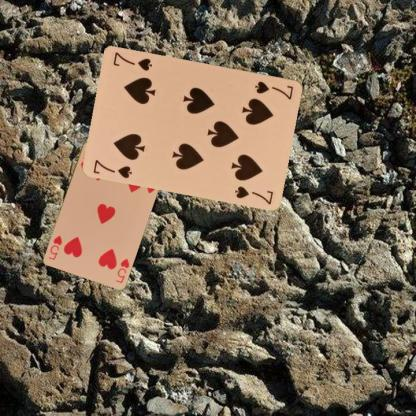5h: (113, 255, 130, 284)
7s: (90, 156, 134, 180), (252, 78, 295, 101)
